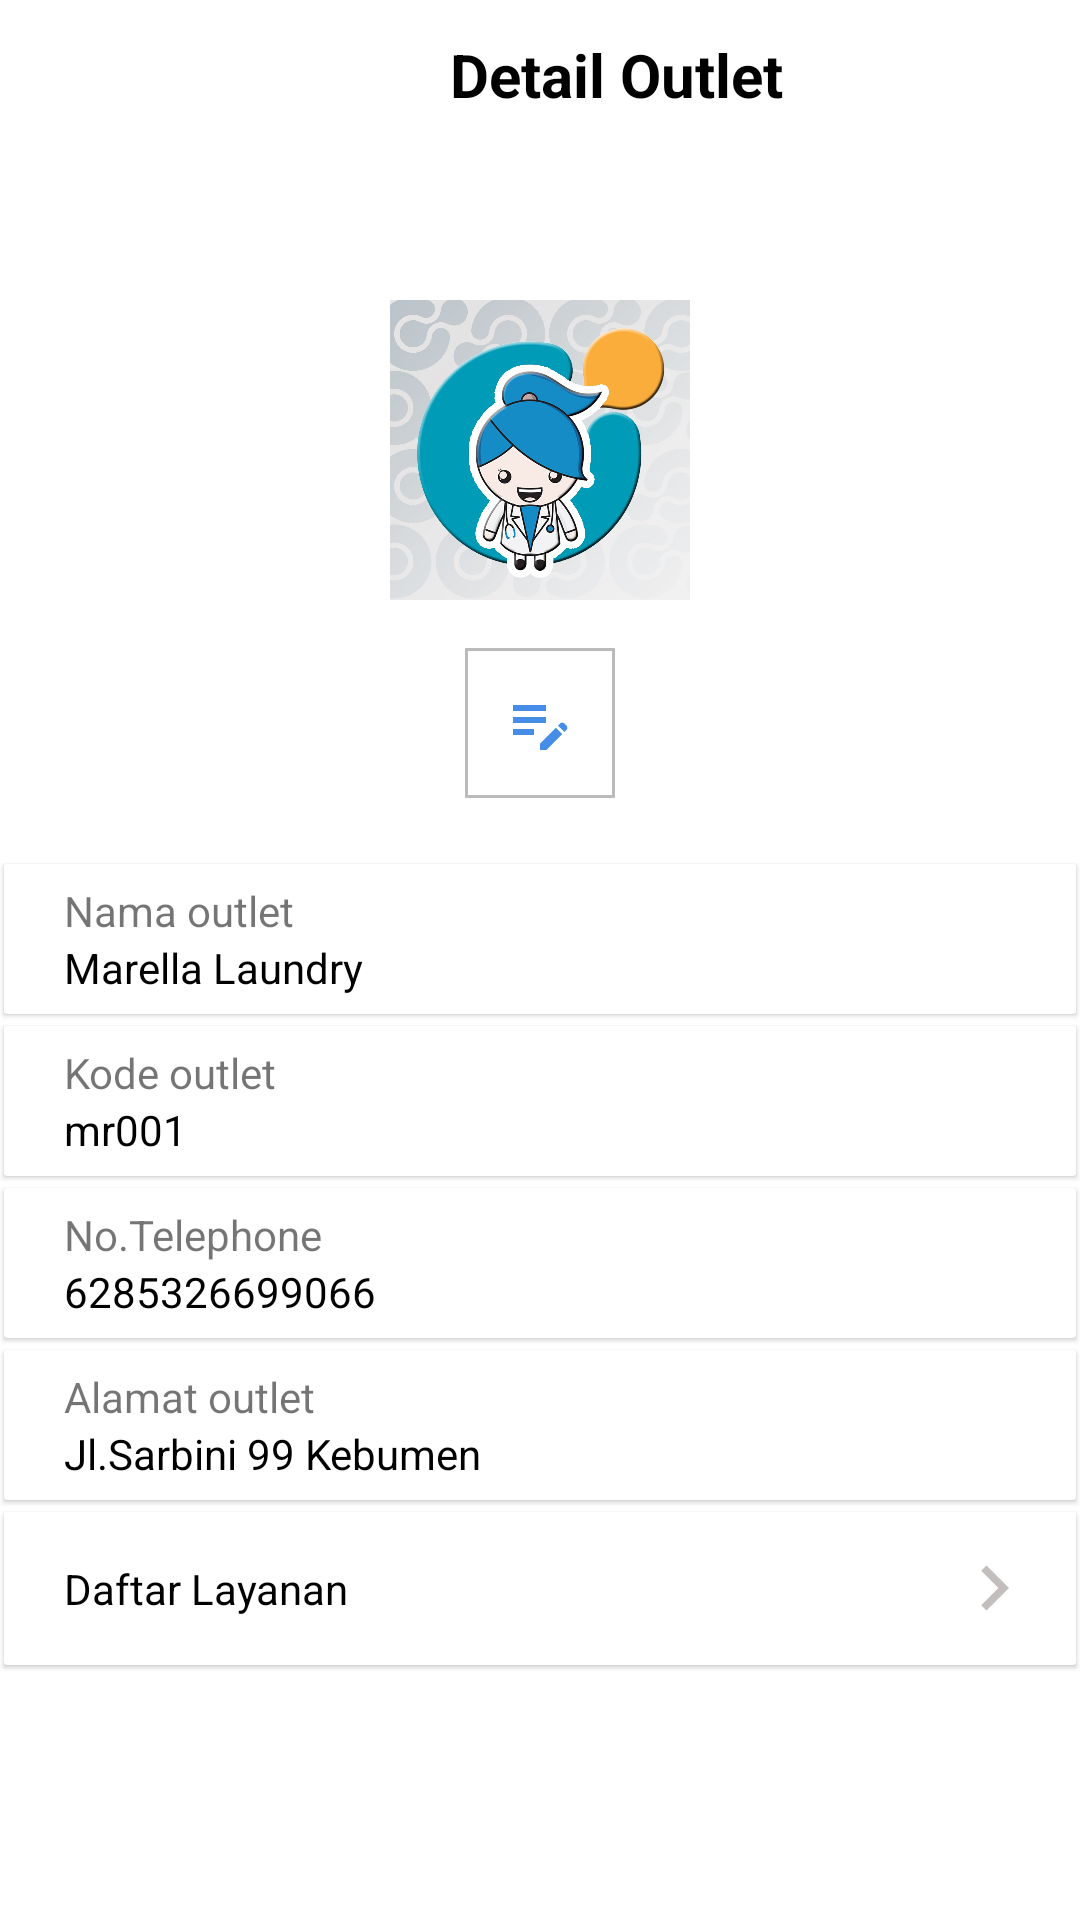

Icon bounding boxes for this 1080×1920 phone screenshot, format BBox(x1, y1, x2, y2):
Edit Profil: BBox(465, 648, 615, 798)
keyboard arrow right: BBox(981, 1566, 1009, 1610)
